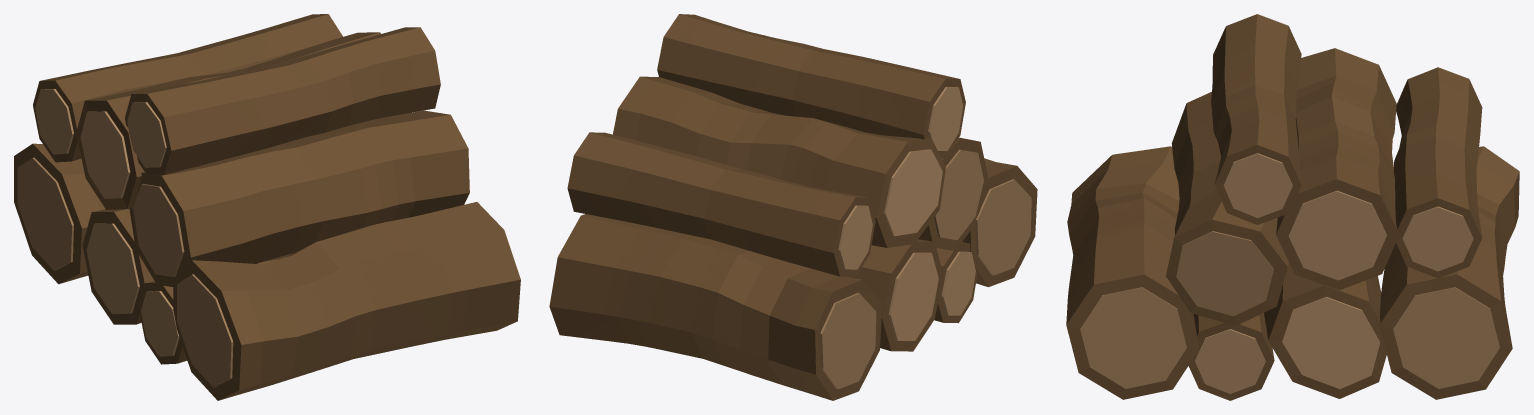
The model's file is Logs.fbx.
The picture shows the model from 3 angles, left to right: view 1: azimuth 30°, elevation 25°; view 2: azimuth 150°, elevation 25°; view 3: azimuth 270°, elevation 25°; orthographic projection. The views are drawn at different scales.
Visible parts, largest first — view 1: Logs; view 2: Logs; view 3: Logs.
Boxes of the visible parts, bbox=[...] form: Logs: bbox=[14, 14, 520, 400]; Logs: bbox=[549, 14, 1037, 400]; Logs: bbox=[1066, 14, 1519, 400].
Bounding box in the file's own units: 1.3 × 1.1 × 1.77.
